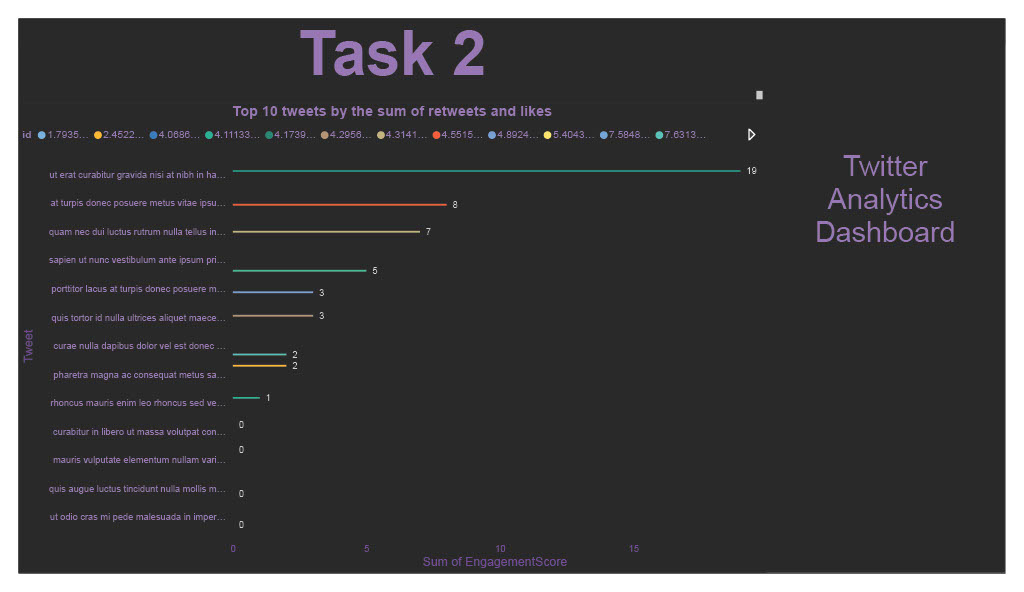

What the dashboard file says about the page in this screenshot:
{"tool":"powerbi","page":{"name":"Task 2","canvas":[1280,720],"ordinal":1},"visuals":[{"type":"clusteredBarChart","title":"Top 10 tweets by the sum of retweets and likes","fields":{"Category":["SocialMedia (1).Tweet"],"Y":["Sum(SocialMedia (1).EngagementScore)"],"Series":["SocialMedia (1).id"]},"box":[0,109.9,970.2,609],"z":0},{"type":"textbox","box":[969.5,0,309.9,718.1],"z":1},{"type":"textbox","title":"Task 2","box":[0,0,970.2,109.9],"z":2}]}

Visuals, with their boxes in screenshot pixels (x1, y1, x2, y2), scaled from the page's 1280x720 canvas onto the 1024x592 screenshot:
"Top 10 tweets by the sum of retweets and likes" clusteredBarChart: l=0, t=90, r=776, b=591
textbox: l=776, t=0, r=1023, b=590
"Task 2" textbox: l=0, t=0, r=776, b=90
